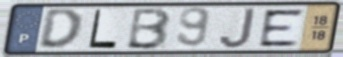9: (176, 6, 213, 51)
B: (124, 7, 173, 52)
D: (37, 7, 85, 51)
E: (258, 7, 306, 49)
J: (217, 7, 257, 50)
L: (87, 8, 119, 50)
